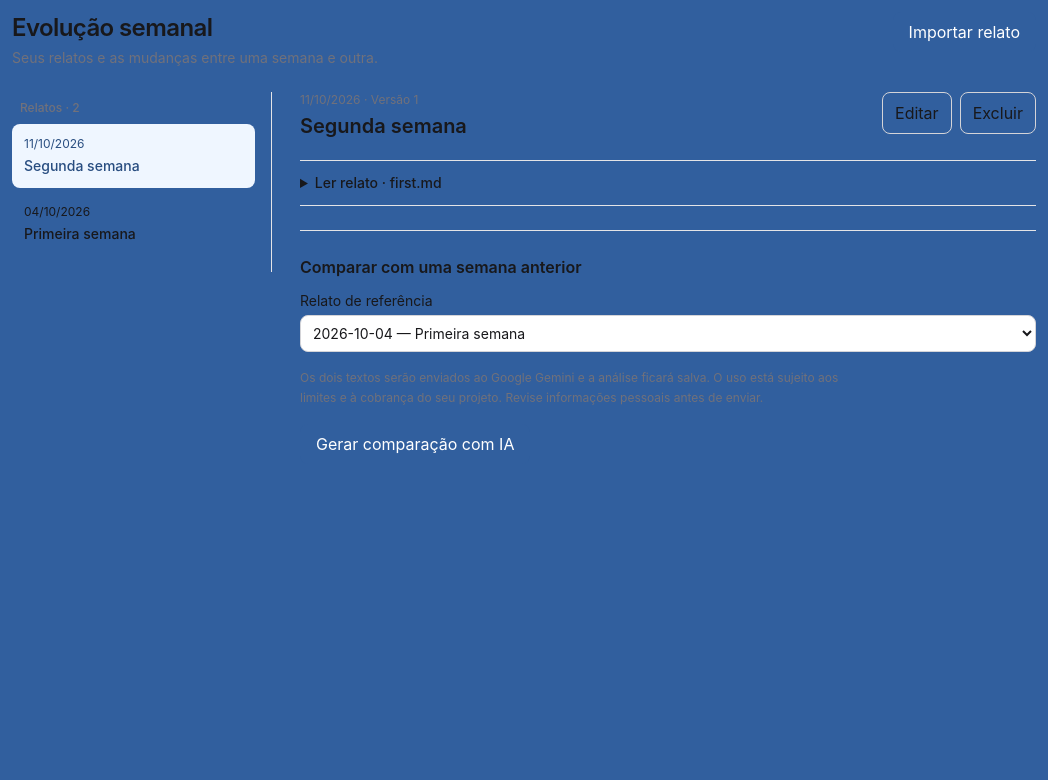
Test case: weekly evolution › requires explicit consent action and does not generate on mount
Check: the text "dois textos serão enviados" is shown, box [300,370,838,405]
Click the button "Gerar comparação com IA".
click(415, 444)  # box [300,424,530,464]
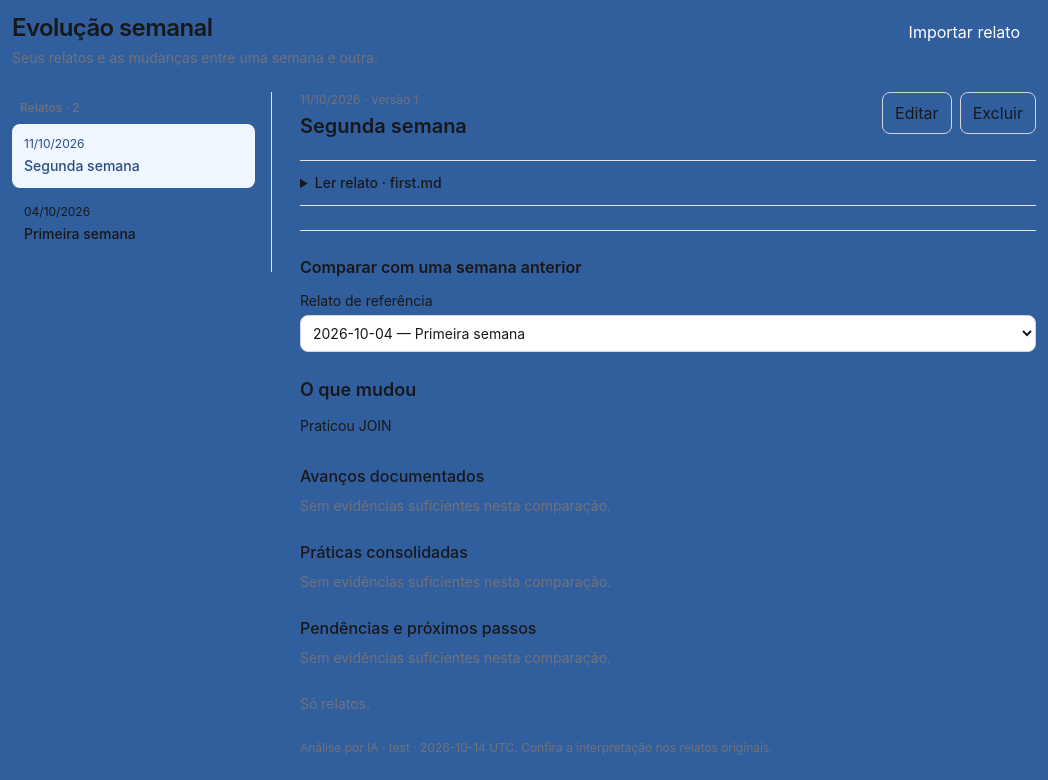
Check: the text "Praticou JOIN" is shown, box [300,417,392,434]
